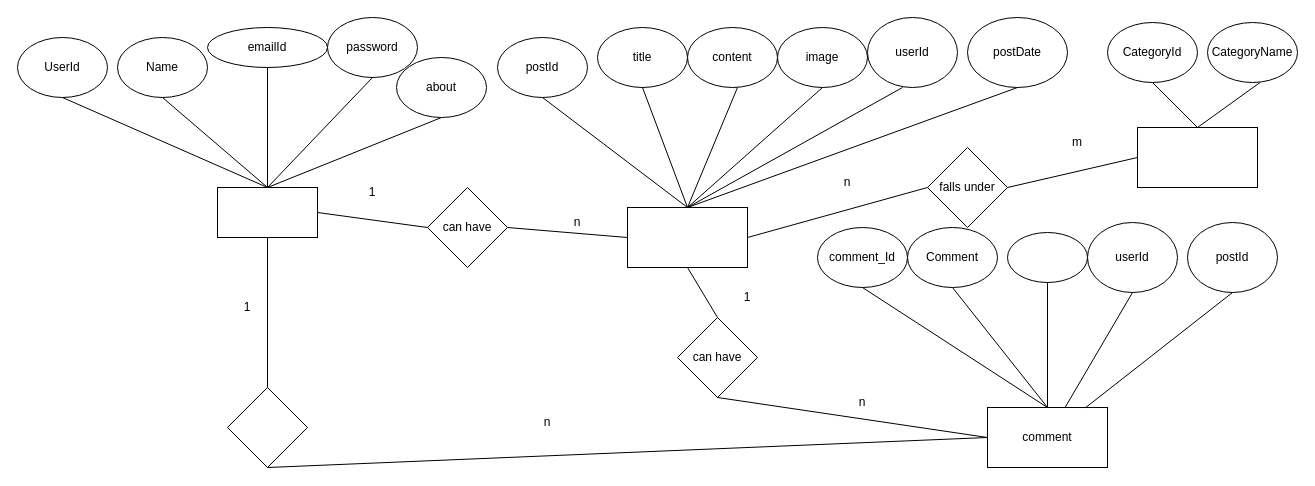
Image size: 1315x486. Some labels were removed from this diagram. The shapes that lost their labels are listed below. From the top down, each one's centre as x and y in pixels, then its label:
At (1197,157): "category".
At (267,212): "users".
At (687,237): "post".
At (1047,257): "commentDate".
At (267,427): "can create".
